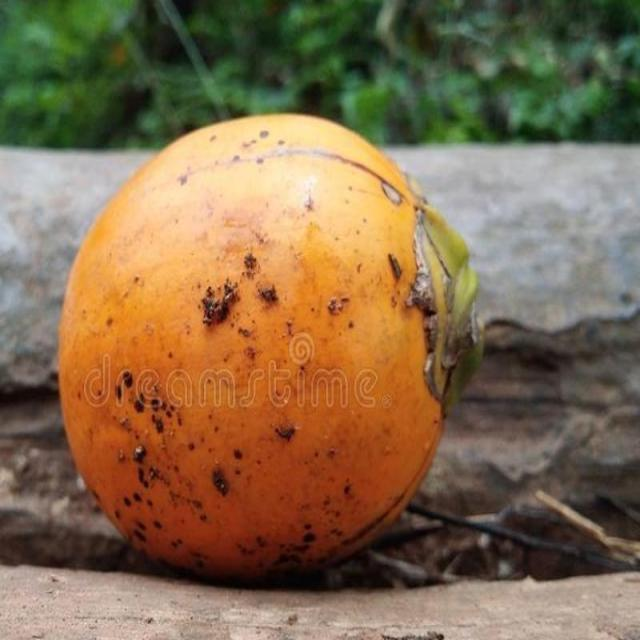good: (56, 114, 482, 589)
